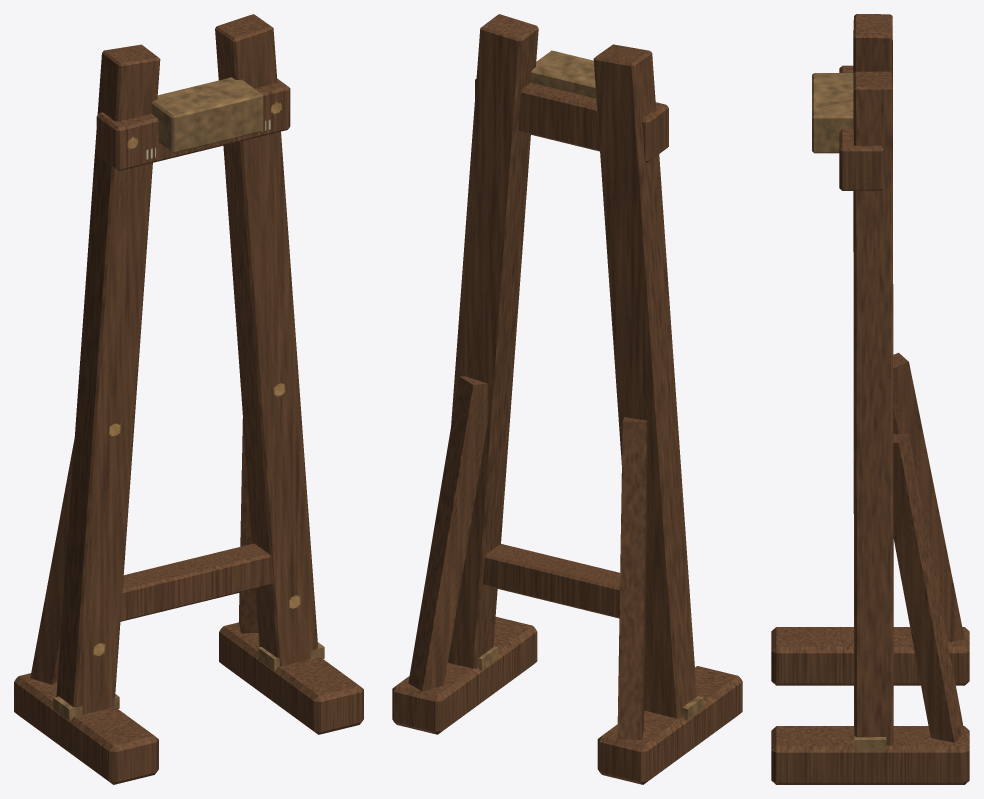
Rendered from TargetTrestle.fbx.
The picture shows the model from 3 angles, left to right: view 1: azimuth 30°, elevation 25°; view 2: azimuth 150°, elevation 25°; view 3: azimuth 270°, elevation 25°; orthographic projection.
Parts seen in each view (by area): view 1: TargetTrestle; view 2: TargetTrestle; view 3: TargetTrestle.
Part boxes in pixels (<box>): TargetTrestle: <box>14,14,363,784</box>; TargetTrestle: <box>392,14,742,784</box>; TargetTrestle: <box>771,14,969,784</box>.
Size of the model in its own units: 0.693 by 1.76 by 0.47.
